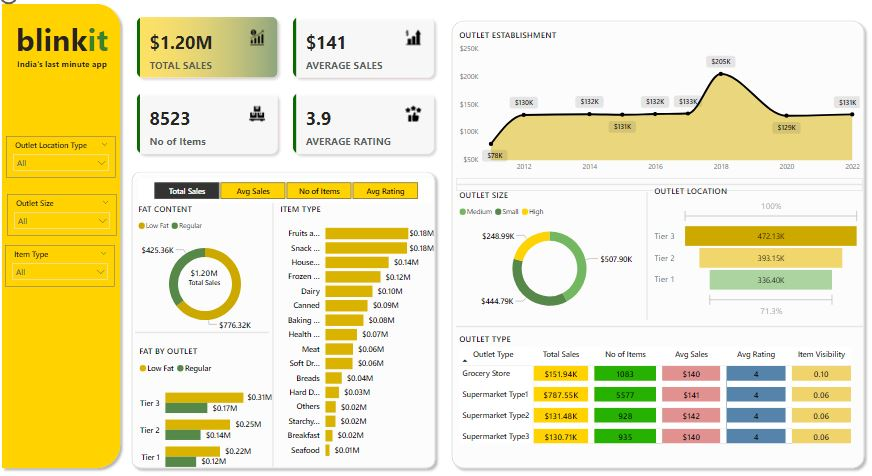

What the dashboard file says about the page in this screenshot:
{"tool":"powerbi","page":{"name":"Page 1","canvas":[1400,800],"ordinal":0},"visuals":[{"type":"shape","box":[0,25.2,204.7,749.6],"z":0},{"type":"textbox","box":[17.3,52,173.2,77.2],"z":1000},{"type":"textbox","box":[17.3,115,173.2,29.9],"z":2000},{"type":"cardVisual","fields":{"Data":["BlinkIT Grocery Data.Total Sales","BlinkIT Grocery Data.Avg Sales","BlinkIT Grocery Data.No of Items","BlinkIT Grocery Data.Avg Rating"]},"box":[204.7,37.8,503.9,252],"z":3000},{"type":"shape","box":[204.7,289.8,496.1,485],"z":4000},{"type":"slicer","box":[223.6,308.7,464.6,39.4],"z":5000},{"type":"donutChart","title":"FAT CONTENT","fields":{"Y":["BlinkIT Grocery Data.Total Sales"],"Category":["BlinkIT Grocery Data.Item Fat Content"]},"box":[218.9,348,220.5,211],"z":6000},{"type":"cardVisual","fields":{"Data":["BlinkIT Grocery Data.Total Sales"]},"box":[274,431.5,108.7,56.7],"z":7000},{"type":"clusteredBarChart","title":"FAT BY OUTLET","fields":{"Y":["BlinkIT Grocery Data.Total Sales"],"Category":["BlinkIT Grocery Data.Outlet Location Type"],"Series":["BlinkIT Grocery Data.Item Fat Content"]},"box":[220.5,571.7,218.9,215.7],"z":8000},{"type":"shape","box":[218.9,544.9,211,14.2],"z":9000},{"type":"shape","box":[429.9,348,12.6,415.7],"z":10000},{"type":"barChart","title":"ITEM TYPE","fields":{"Y":["BlinkIT Grocery Data.Total Sales"],"Category":["BlinkIT Grocery Data.Item Type"]},"box":[442.5,348,252,412.6],"z":11000},{"type":"shape","box":[708.7,52,667.7,722.8],"z":12000},{"type":"lineChart","title":"OUTLET ESTABLISHMENT","fields":{"Category":["BlinkIT Grocery Data.Outlet Establishment Year"],"Y":["BlinkIT Grocery Data.Total Sales"]},"box":[724.4,74,640.9,234.6],"z":13000},{"type":"shape","box":[724.4,308.7,640.9,20.5],"z":13001},{"type":"donutChart","title":"OUTLET SIZE","fields":{"Y":["BlinkIT Grocery Data.Total Sales"],"Category":["BlinkIT Grocery Data.Outlet Size"]},"box":[724.4,326,294.5,206.3],"z":13002},{"type":"shape","box":[1018.9,330.7,12.6,201.6],"z":13003},{"type":"funnel","title":"OUTLET LOCATION","fields":{"Y":["Sum(BlinkIT Grocery Data.Sales)"],"Category":["BlinkIT Grocery Data.Outlet Location Type"]},"box":[1031.5,319.7,333.9,212.6],"z":13004},{"type":"shape","box":[724.4,532.3,640.9,20.5],"z":13005},{"type":"pivotTable","title":"OUTLET TYPE","fields":{"Rows":["BlinkIT Grocery Data.Outlet Type"],"Values":["BlinkIT Grocery Data.Total Sales","BlinkIT Grocery Data.No of Items","BlinkIT Grocery Data.Avg Sales","BlinkIT Grocery Data.Avg Rating","Avg(BlinkIT Grocery Data.Item Visibility)"]},"box":[724.4,552.8,640.9,207.9],"z":13006},{"type":"slicer","fields":{"Values":["BlinkIT Grocery Data.Outlet Location Type"]},"box":[15.7,242.5,173.2,66.1],"z":13007},{"type":"actionButton","box":[0,0,100,40],"z":13008},{"type":"slicer","fields":{"Values":["BlinkIT Grocery Data.Outlet Size"]},"box":[17.3,333.9,173.2,66.1],"z":13009},{"type":"slicer","fields":{"Values":["BlinkIT Grocery Data.Item Type"]},"box":[14.2,414.2,173.2,66.1],"z":13010}]}

Visuals, with their boxes on the page's 1400x800 design canvas (x1, y1, x2, y2). These are canvas units, not pixel positions in the 872x476 screenshot, which may show the page scaled, cropped or inside an application window:
shape: region(0, 25, 205, 775)
textbox: region(17, 52, 190, 129)
textbox: region(17, 115, 190, 145)
cardVisual - BlinkIT Grocery Data.Total Sales x BlinkIT Grocery Data.Avg Sales: region(205, 38, 709, 290)
shape: region(205, 290, 701, 775)
slicer: region(224, 309, 688, 348)
"FAT CONTENT" donutChart: region(219, 348, 439, 559)
cardVisual - BlinkIT Grocery Data.Total Sales: region(274, 432, 383, 488)
"FAT BY OUTLET" clusteredBarChart: region(220, 572, 439, 787)
shape: region(219, 545, 430, 559)
shape: region(430, 348, 442, 764)
"ITEM TYPE" barChart: region(442, 348, 694, 761)
shape: region(709, 52, 1376, 775)
"OUTLET ESTABLISHMENT" lineChart: region(724, 74, 1365, 309)
shape: region(724, 309, 1365, 329)
"OUTLET SIZE" donutChart: region(724, 326, 1019, 532)
shape: region(1019, 331, 1032, 532)
"OUTLET LOCATION" funnel: region(1032, 320, 1365, 532)
shape: region(724, 532, 1365, 553)
"OUTLET TYPE" pivotTable: region(724, 553, 1365, 761)
slicer - BlinkIT Grocery Data.Outlet Location Type: region(16, 242, 189, 309)
actionButton: region(0, 0, 100, 40)
slicer - BlinkIT Grocery Data.Outlet Size: region(17, 334, 190, 400)
slicer - BlinkIT Grocery Data.Item Type: region(14, 414, 187, 480)
